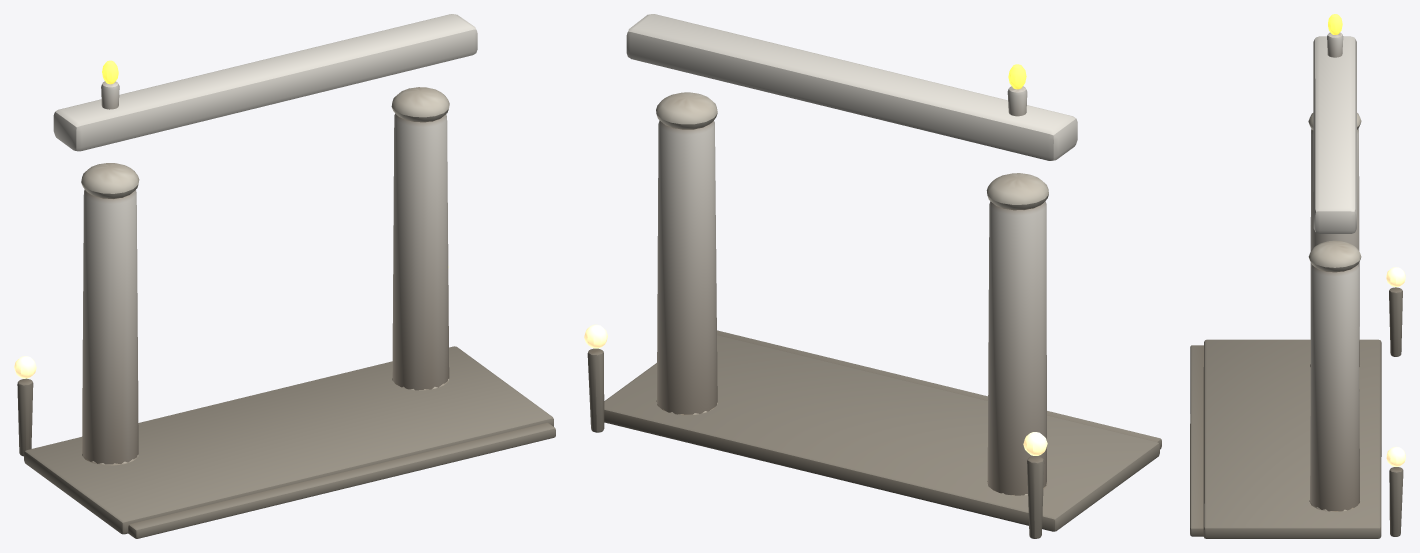
3 views of the same model, side by side, from view 1: azimuth 30°, elevation 25°; view 2: azimuth 150°, elevation 25°; view 3: azimuth 270°, elevation 25° (orthographic). The views are drawn at different scales.
Visible parts, largest first — view 1: gate_48954909; view 2: gate_48954909; view 3: gate_48954909.
Part boxes in pixels (x1=…): gate_48954909: x1=14, y1=14, x2=555, y2=538; gate_48954909: x1=584, y1=14, x2=1161, y2=538; gate_48954909: x1=1190, y1=14, x2=1405, y2=538.
Size of the model in its own units: 5.28 by 4.75 by 2.55.
